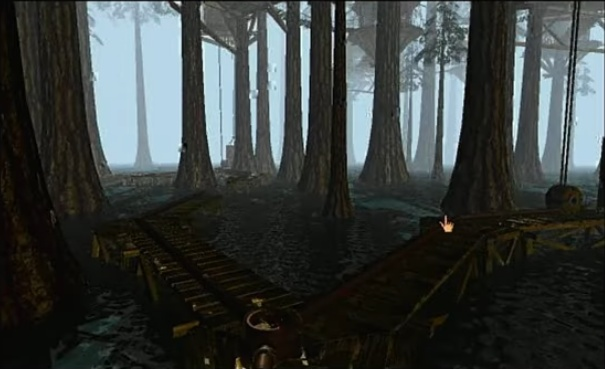Pointer: (436, 211, 458, 234)
